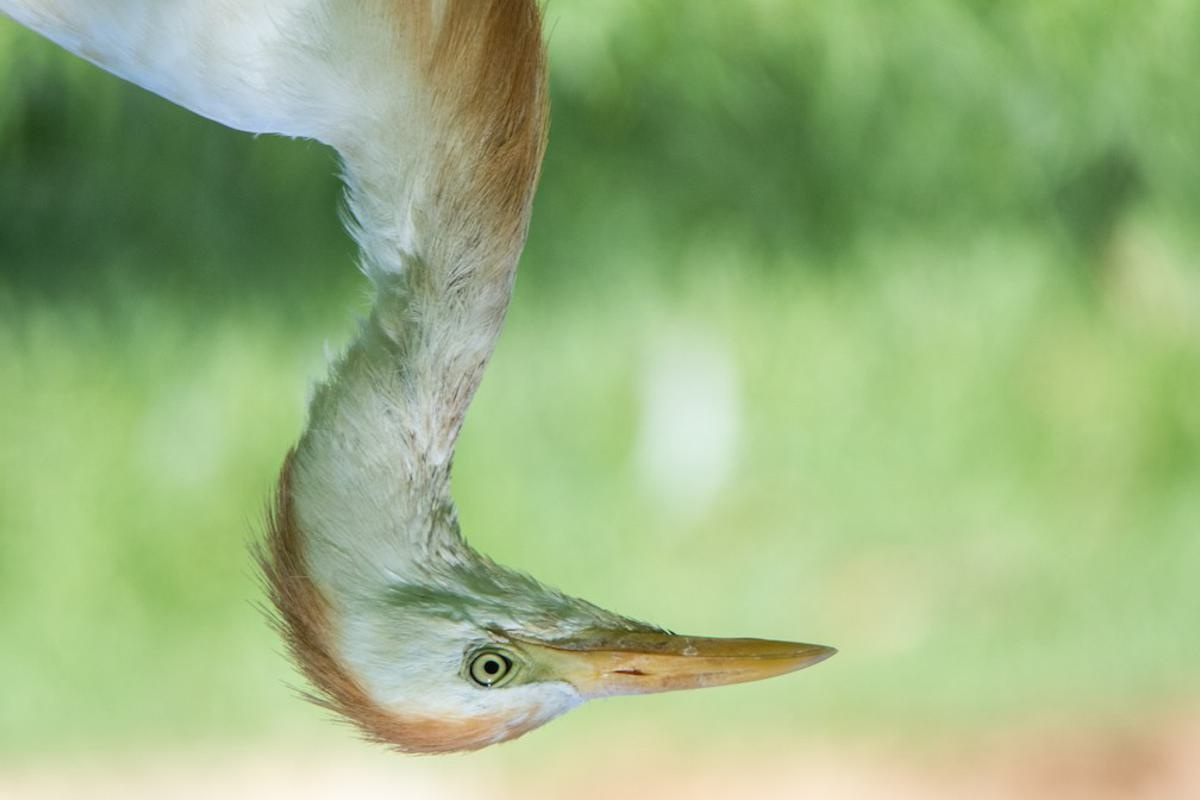egret: (1, 1, 848, 752)
